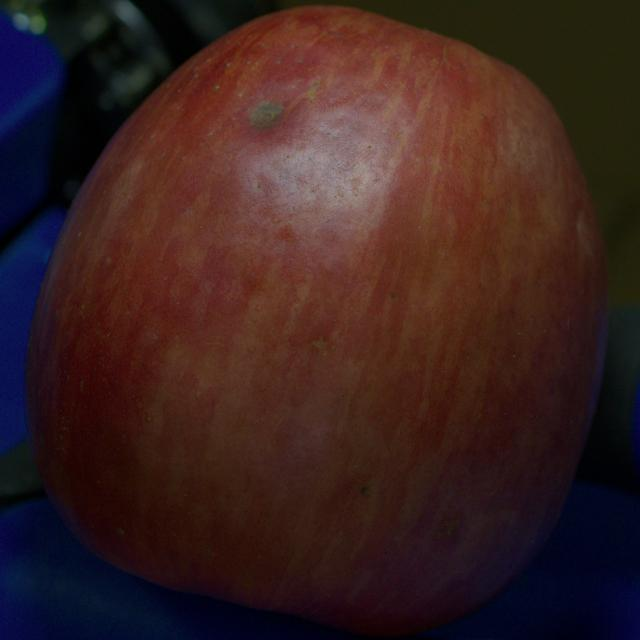apple: (26, 7, 608, 635)
pest: (249, 101, 284, 128), (362, 487, 370, 495)
